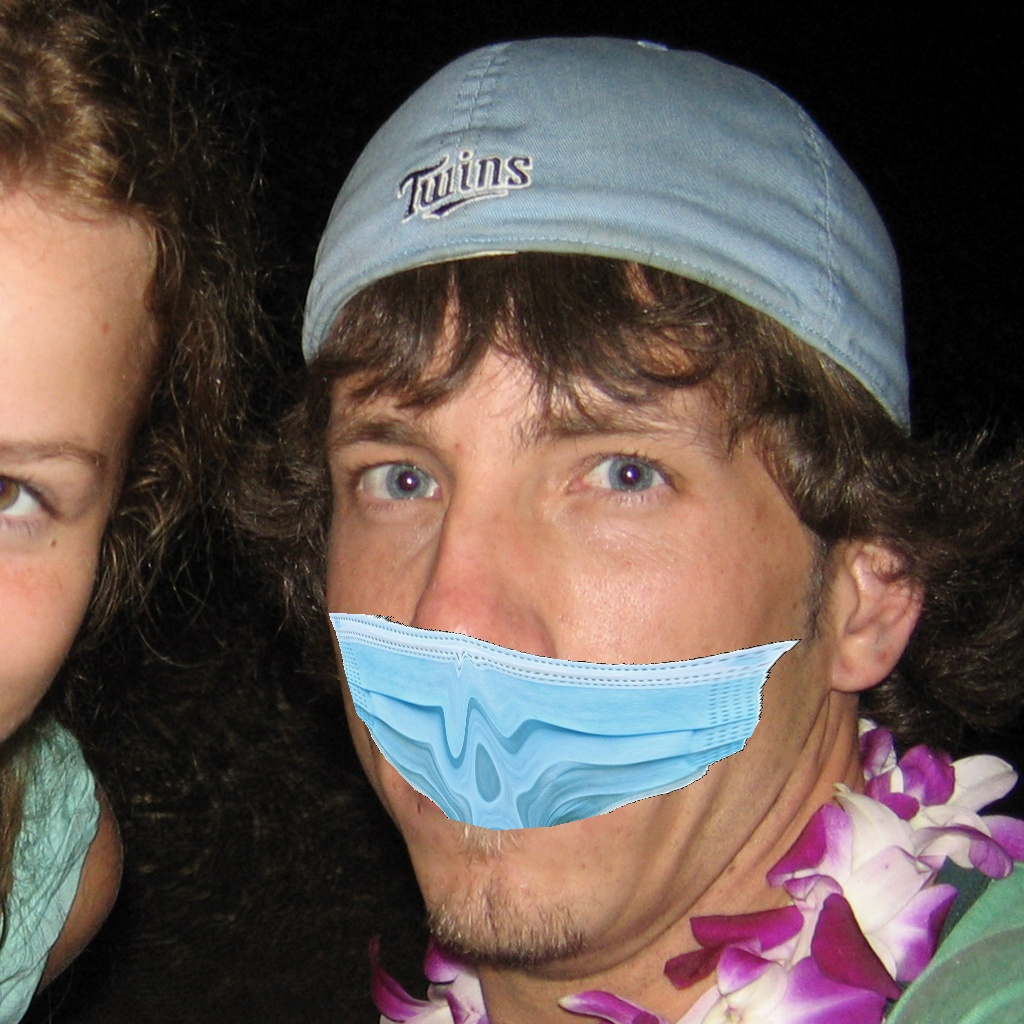Mask_Mouth_Chin: (320, 393, 824, 963)
